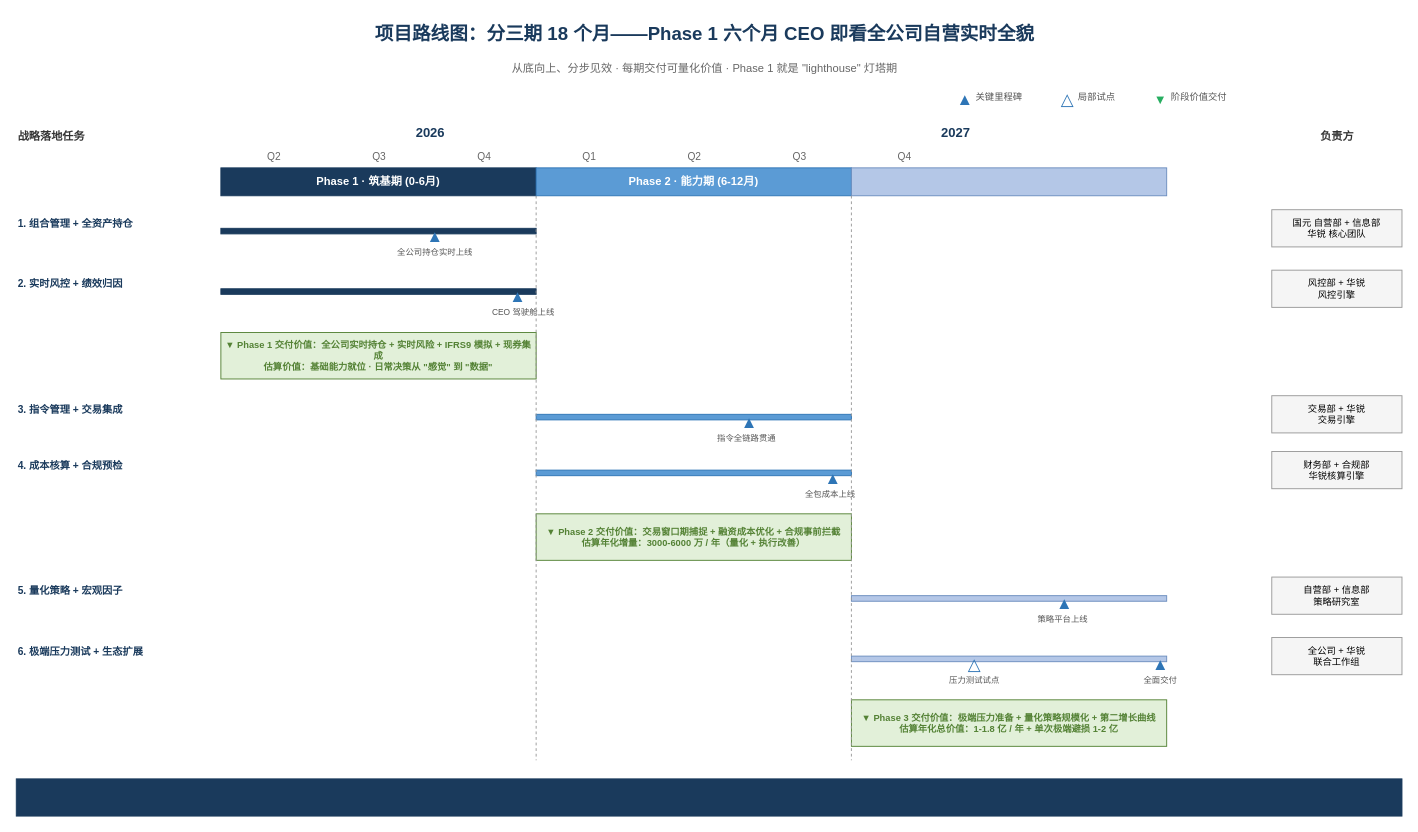
Some shapes in this 1418 by 832 pixel diagram are drawn without their labels. The shapes that lost their labels are listed below. From the top down, each one's centre as x and y in pixels, then its label:
At pixel 1008 181: "Phase 3 · 生态期 (12-18月)".
At pixel 708 797: "建议立即启动 Phase 1：第 1 月联合工作组 · 第 3 月数据底座 · 第 6 月 CEO 驾驶舱上线".
